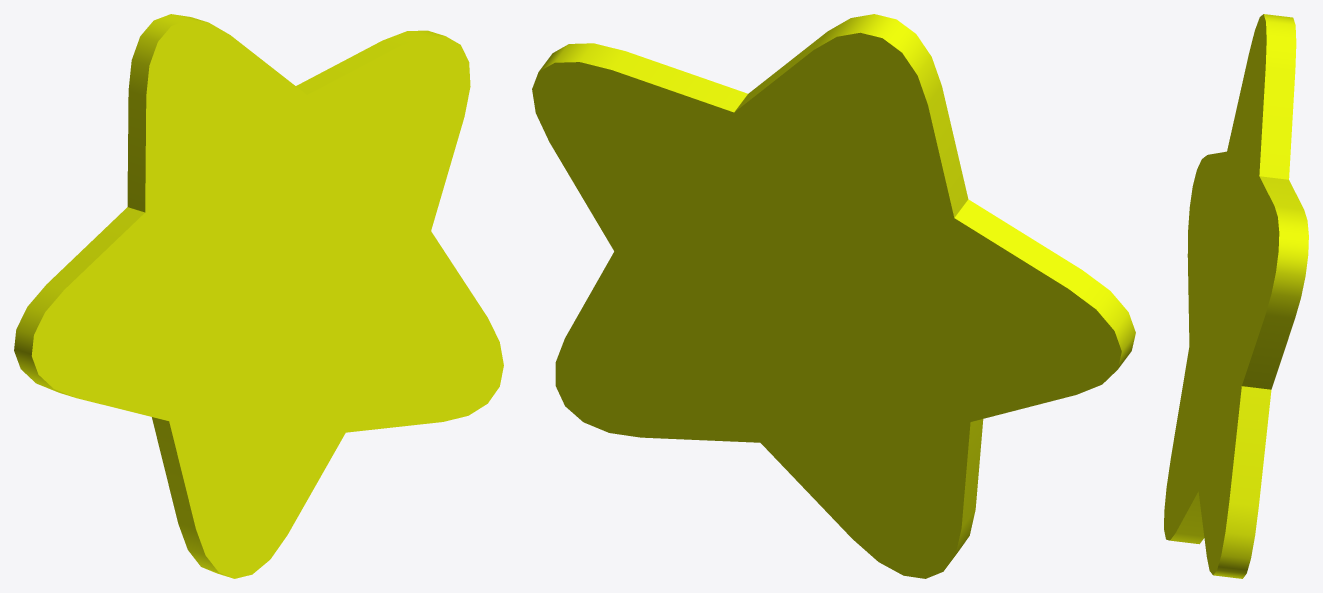
File: Star_round.obj
3 renders of one model, left to right at view 1: azimuth 30°, elevation 25°; view 2: azimuth 150°, elevation 25°; view 3: azimuth 270°, elevation 25°, orthographic. The views are drawn at different scales.
Visible parts, largest first — view 1: Star; view 2: Star; view 3: Star.
Boxes of the visible parts, x1,y1,x2,y2 form: Star: (14,14,503,578); Star: (532,14,1135,578); Star: (1164,14,1308,578).
Bounding box in the file's own units: 0.7651 × 0.7856 × 0.1998.
1 material, 1 textured.
